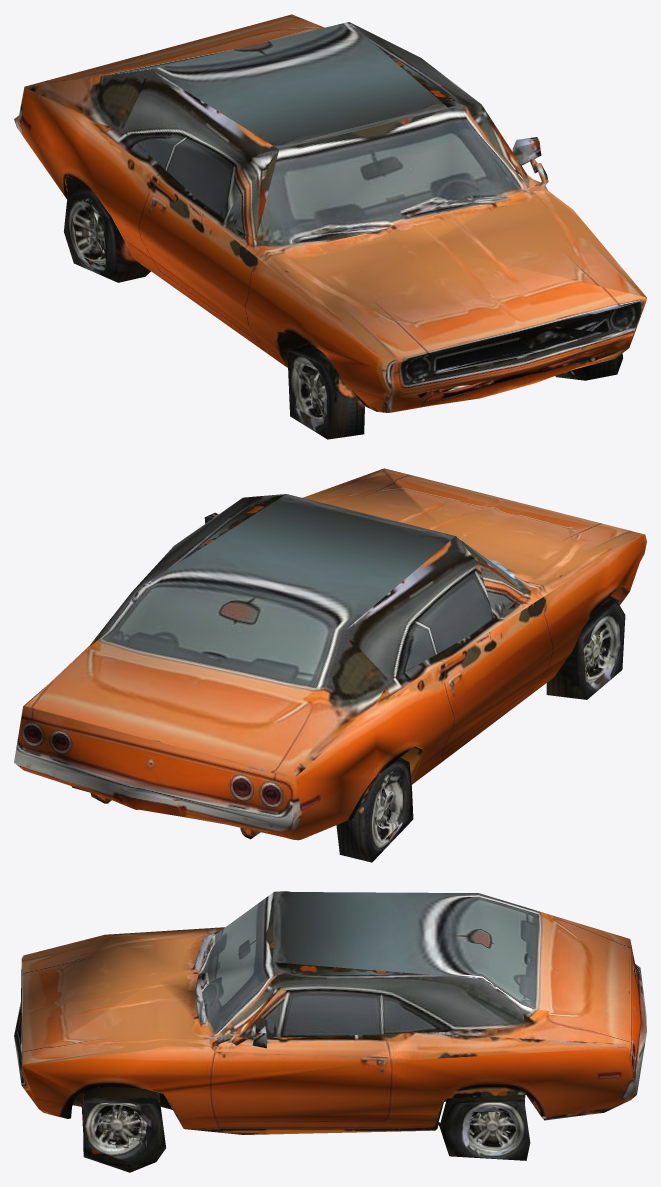
The model's file is charger_69.glb.
3 renders of one model, top to bottom at view 1: azimuth 30°, elevation 25°; view 2: azimuth 150°, elevation 25°; view 3: azimuth 270°, elevation 25°, orthographic. The views are drawn at different scales.
Parts seen in each view (by area): view 1: textured; view 2: textured; view 3: textured.
Boxes of the visible parts, <box> form: textured: <box>14,14,646,439</box>; textured: <box>14,468,646,862</box>; textured: <box>14,891,646,1172</box>.
Bounding box in the file's own units: 1.01 × 0.6417 × 1.99.
1 material, 1 textured.
